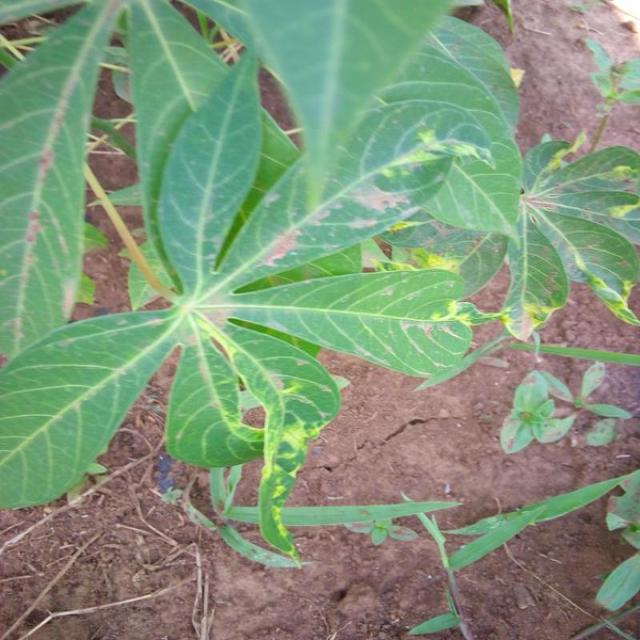cassava leaf: (2, 0, 639, 569)
